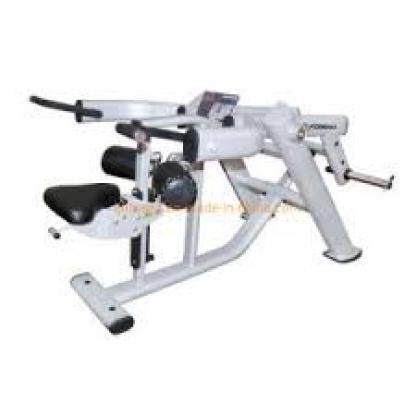seated dip machine: (22, 67, 400, 343)
